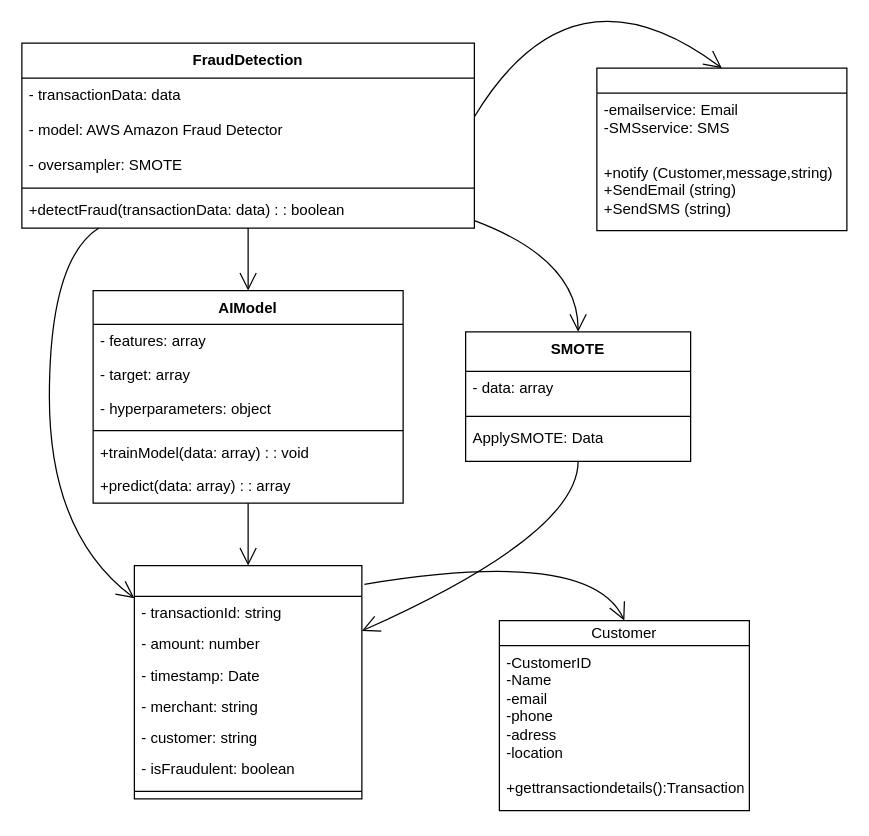
This 869x836 diagram has some shape labels left out. Each missing label, with the box of its shape:
NotService: (596, 67, 847, 231)
TransactionData: (133, 564, 362, 799)
